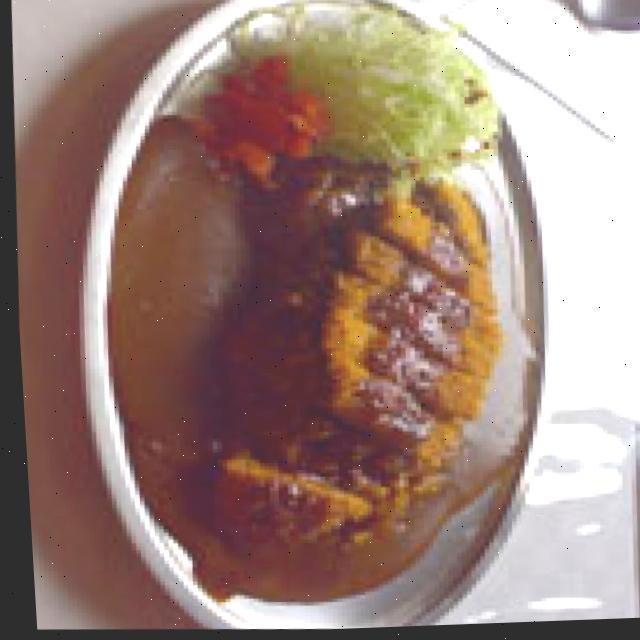猪肉菜式: (17, 0, 611, 640)
